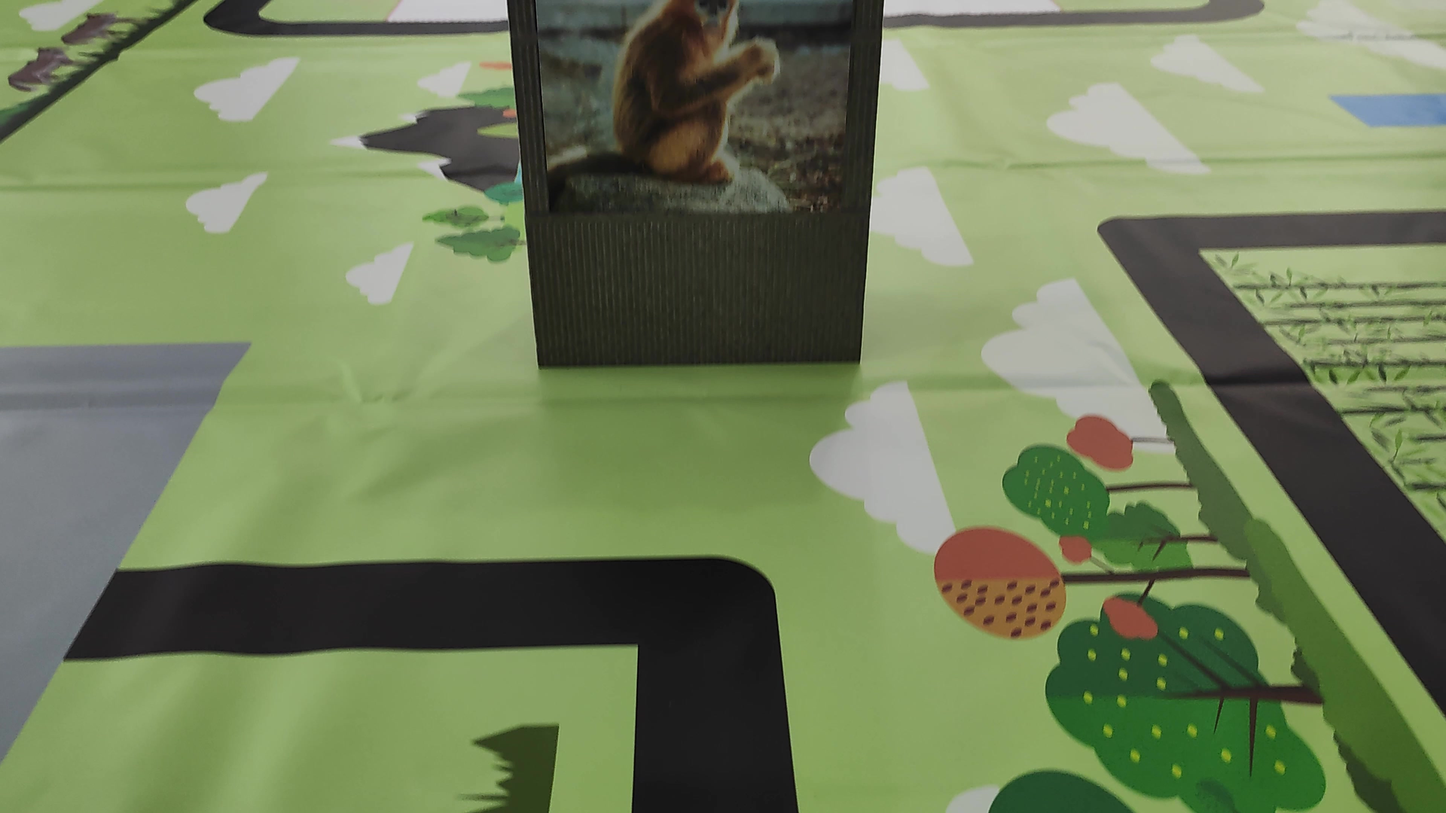monkey: (581, 6, 825, 176)
